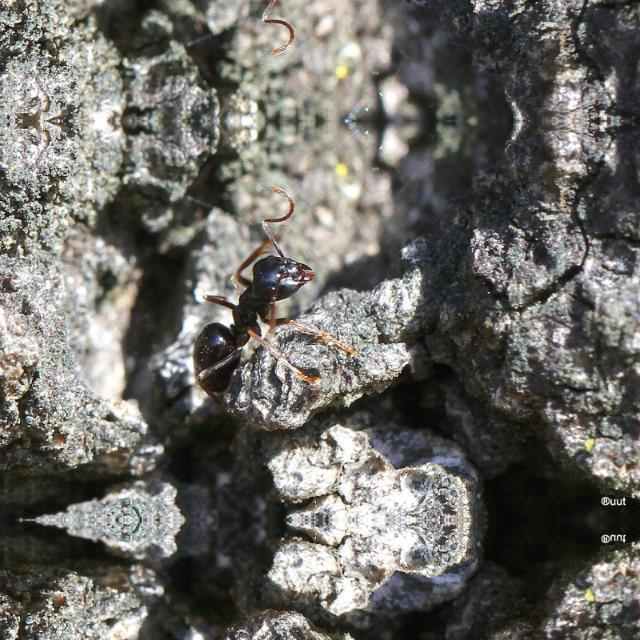Lasius: (182, 222, 322, 400)
